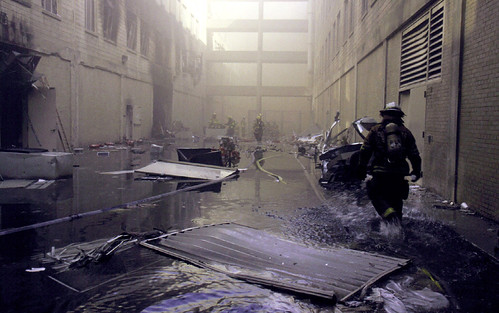building: (1, 1, 225, 132)
firefighter: (369, 101, 420, 236)
street: (13, 136, 363, 313)
